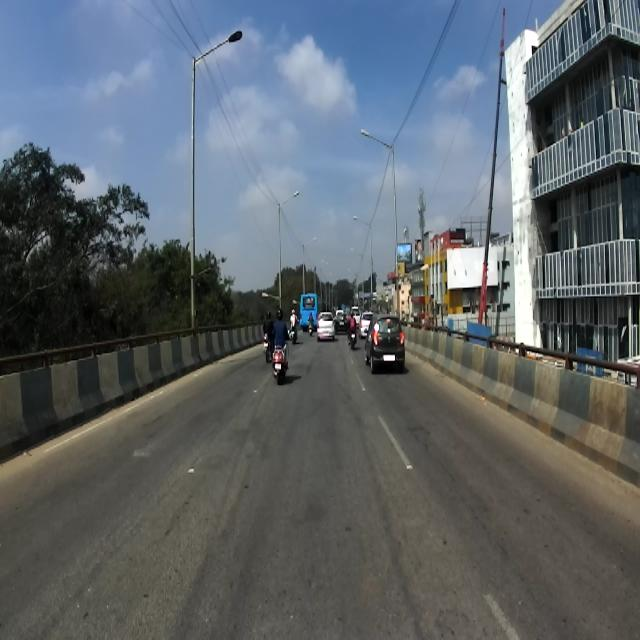barrier ahead at: (2, 319, 257, 462), (405, 328, 640, 479)
car ahead at: (364, 314, 410, 379)
